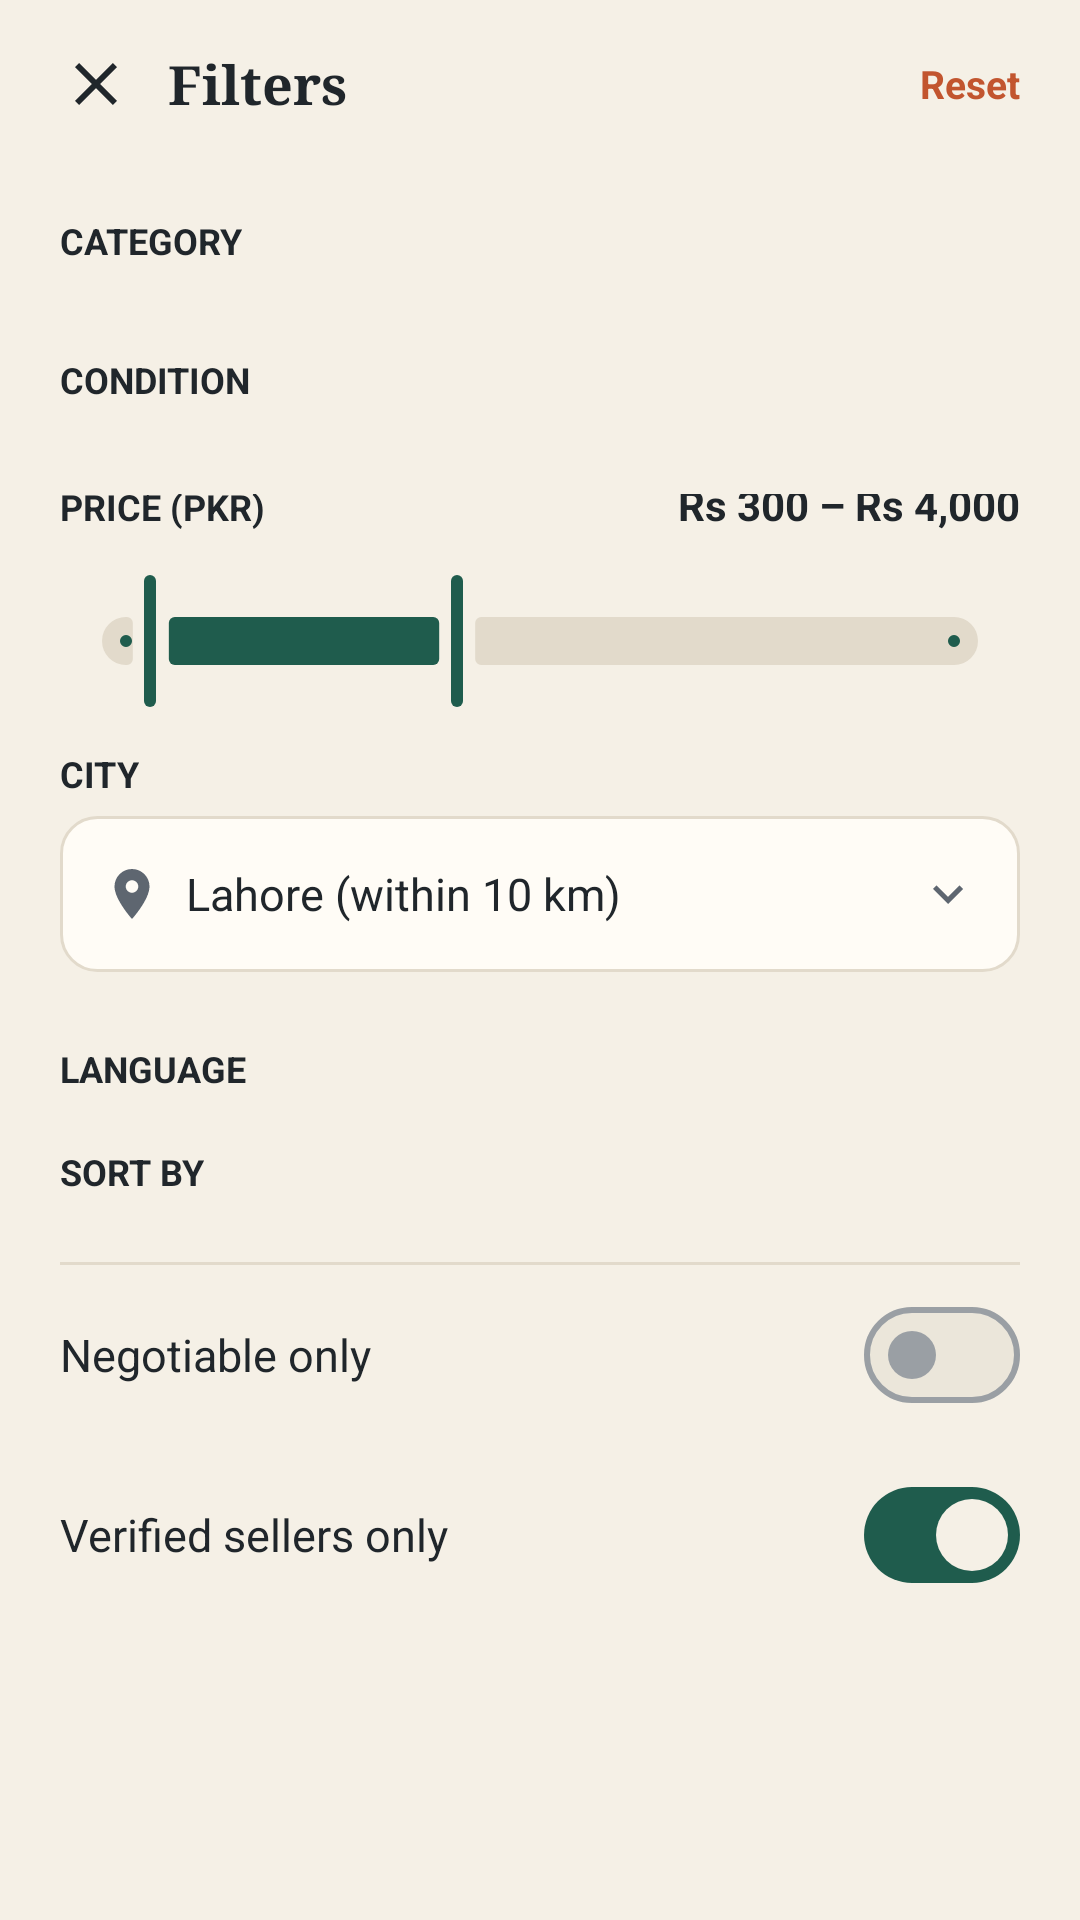

Icon bounding boxes for this 1080 × 1920 phone screenshot, format (x1,y1,x2,y2):
Close: (75,63,117,105)
expand: (933,885,963,904)
pin: (114,869,150,919)
